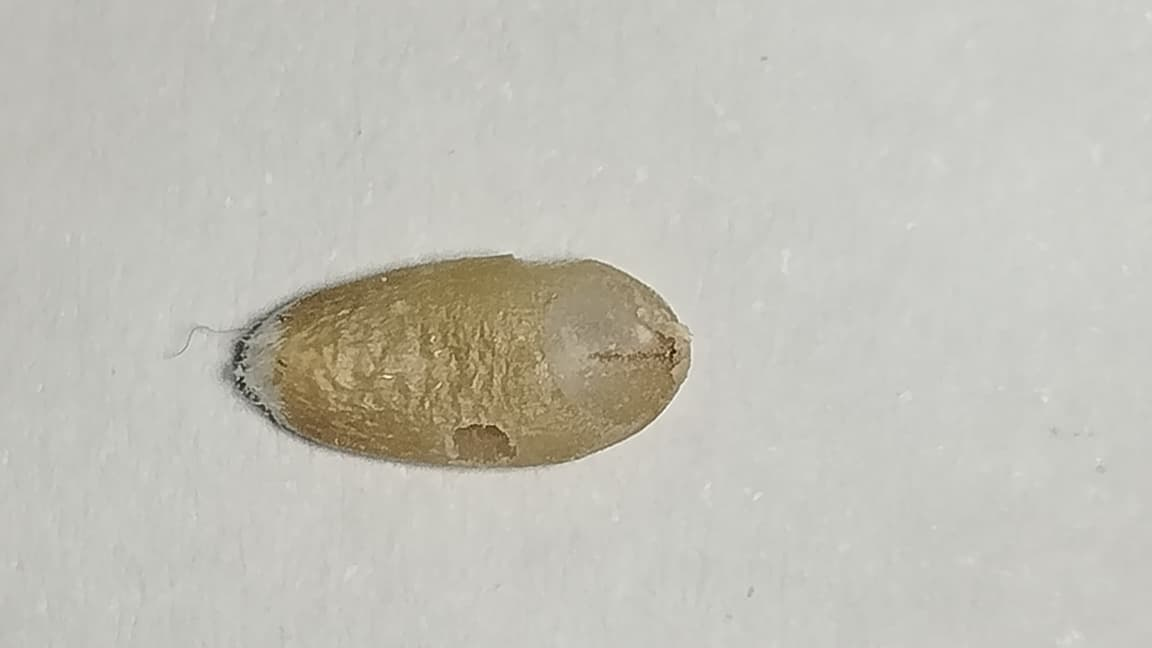damage: (236, 255, 688, 471)
insectdamage: (506, 255, 690, 432), (425, 408, 532, 482)
